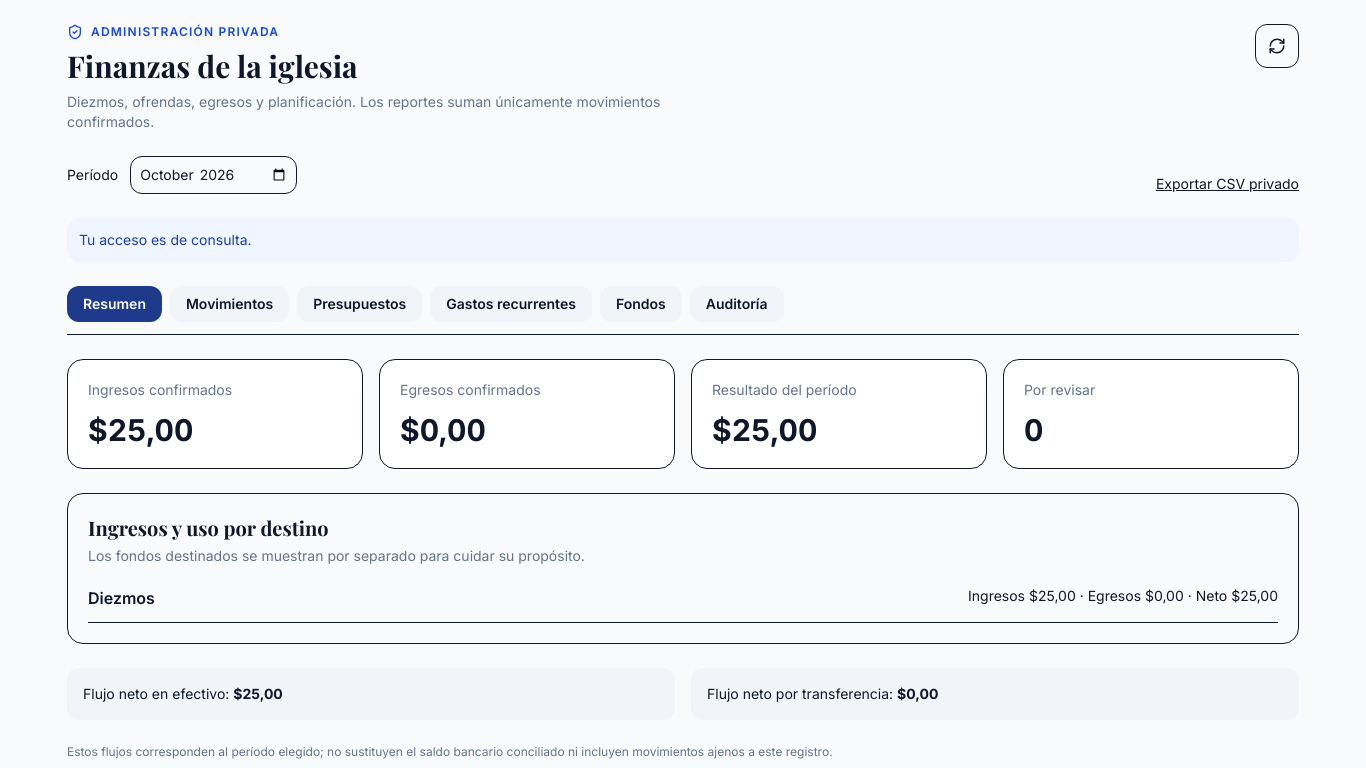
it: Vistas financieras › el cuerpo de apoyo consulta sin botones de edición ni generación de gastos
Expected: the text "Tu acceso es de consulta." is shown, [67,218,1299,262]
Expected: the text "Ingresos confirmados" is shown, [88,381,232,398]
Click the button "Movimientos": [230, 304] box [170,286,289,322]
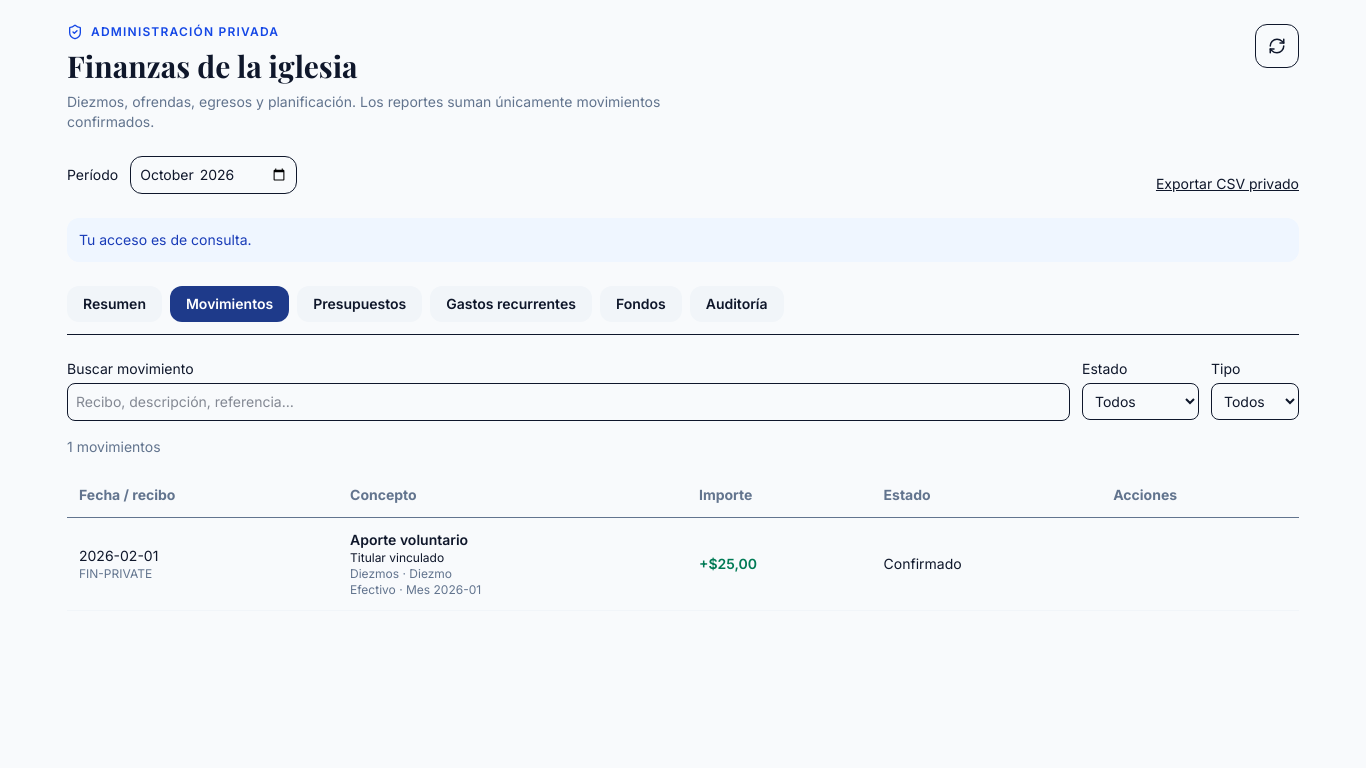
Result: the text "FIN-PRIVATE" is shown at [79,566,152,581]
